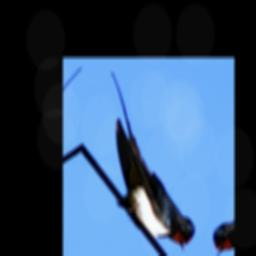Swallow: (78, 69, 224, 253)
